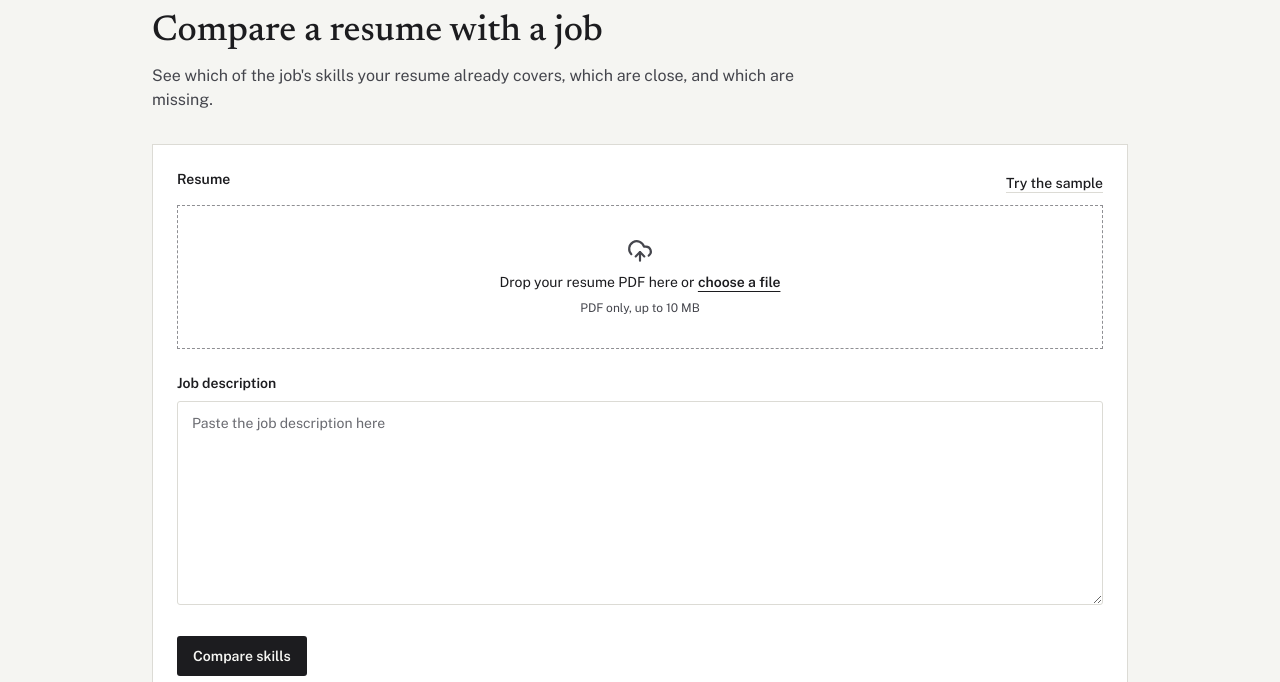
Test: the report marks up the job post that was submitted, not later edits
Click the button "Try the sample" at (1054, 183), box x1=1006 y1=173 x2=1103 y2=193
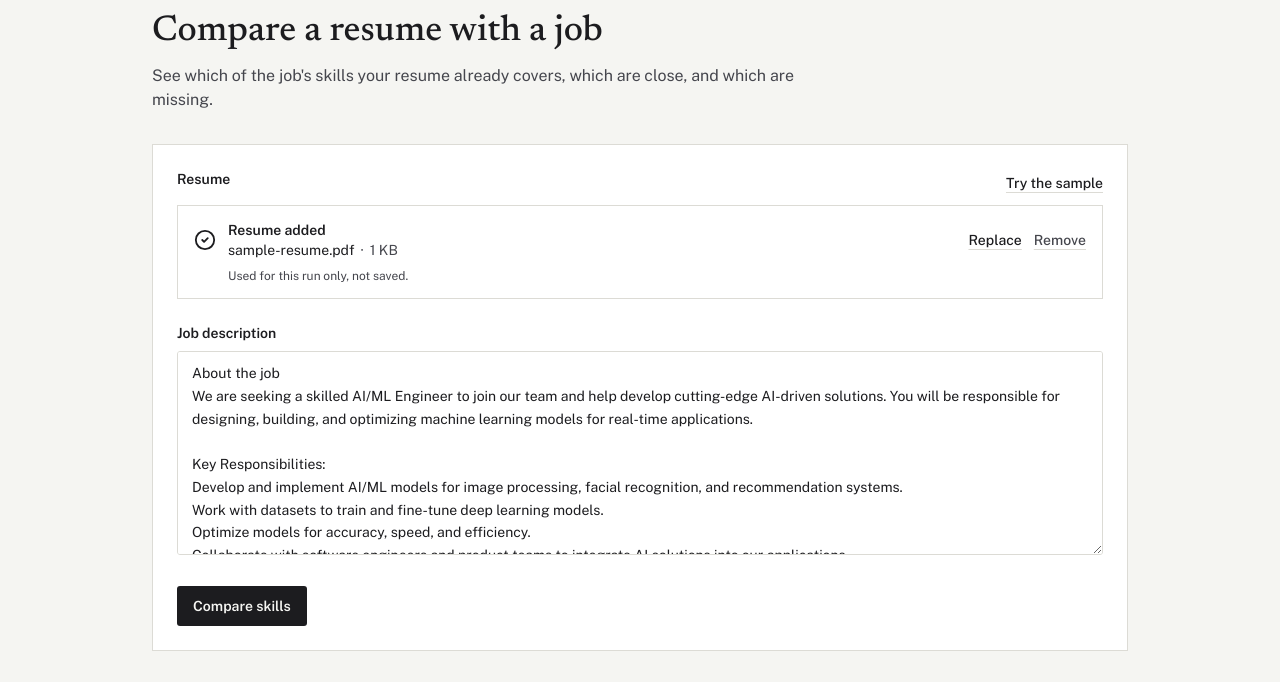
Click the button "Compare skills" at (242, 606), box x1=177 y1=586 x2=307 y2=626
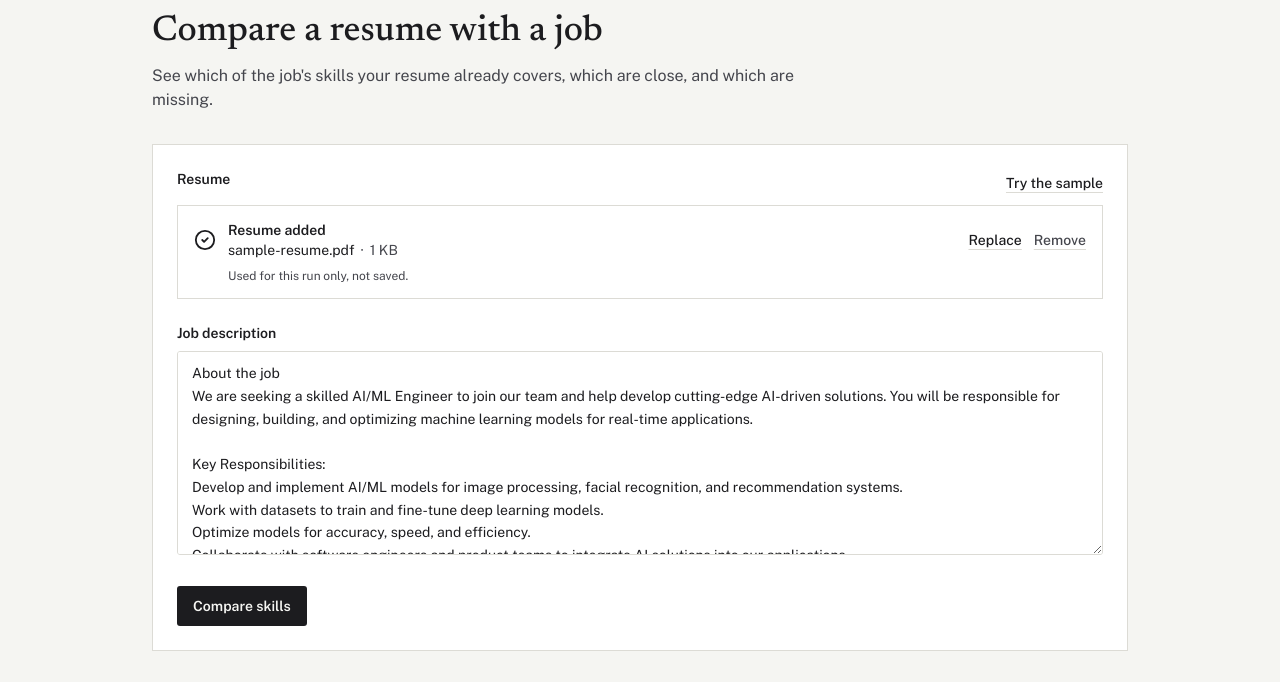
Replace the text in the text box with "Something else entirely" at (640, 453), box x1=177 y1=351 x2=1103 y2=555
(page scrolled)
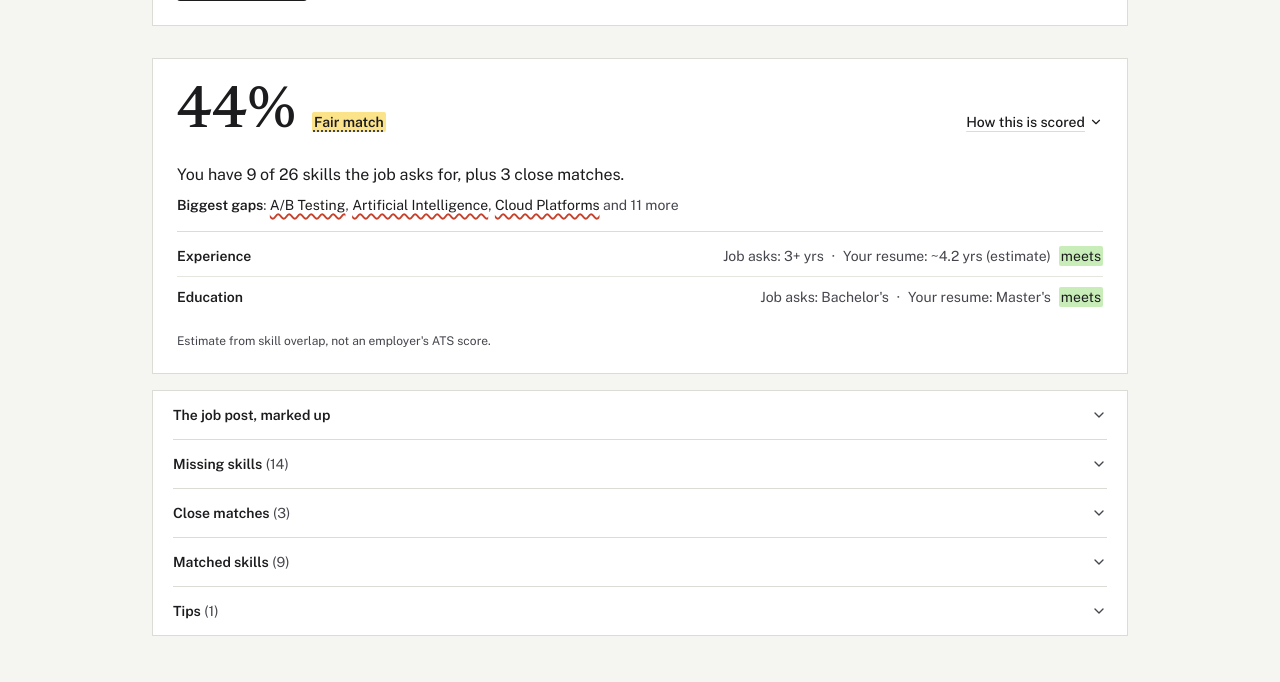
Click the button "The job post, marked up" at (252, 415), box x1=173 y1=391 x2=1107 y2=439
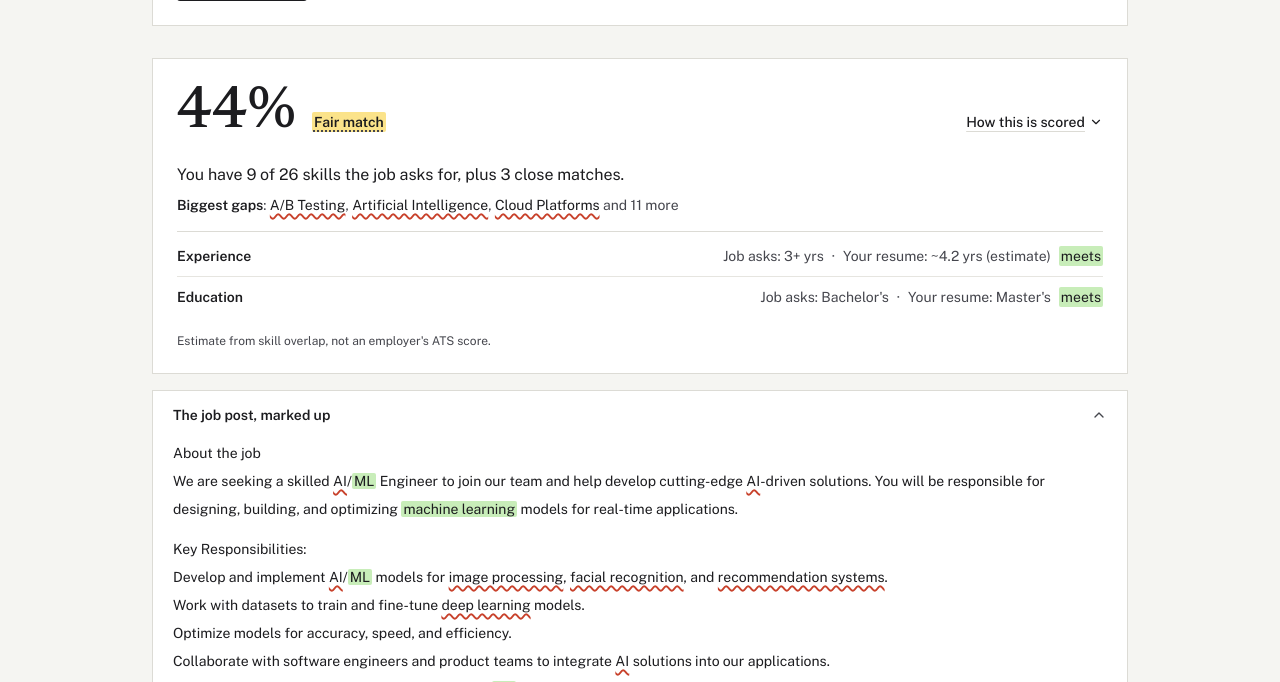
Expected: the text "We are seeking a skilled" is shown, x1=173 y1=473 x2=333 y2=489
